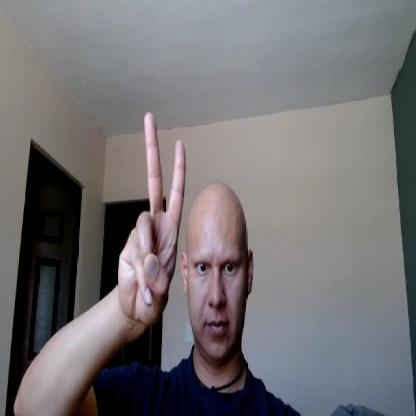V: (118, 110, 185, 322)
